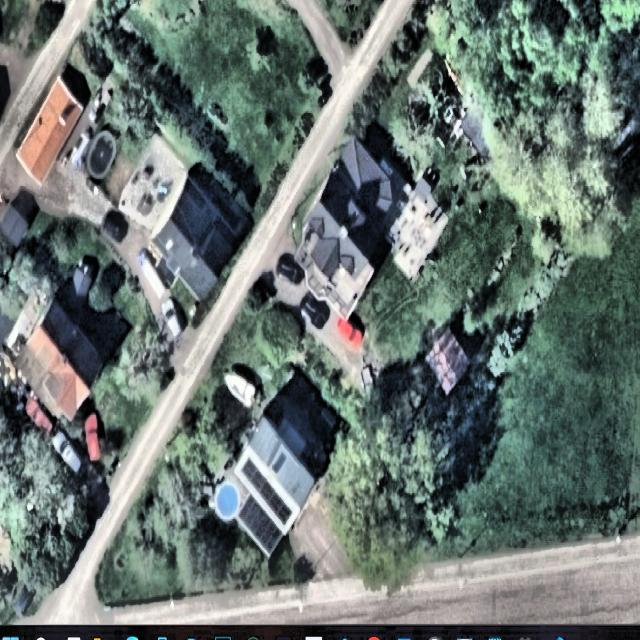roof_pv: (240, 490, 282, 550), (260, 478, 292, 527), (238, 457, 272, 494)
